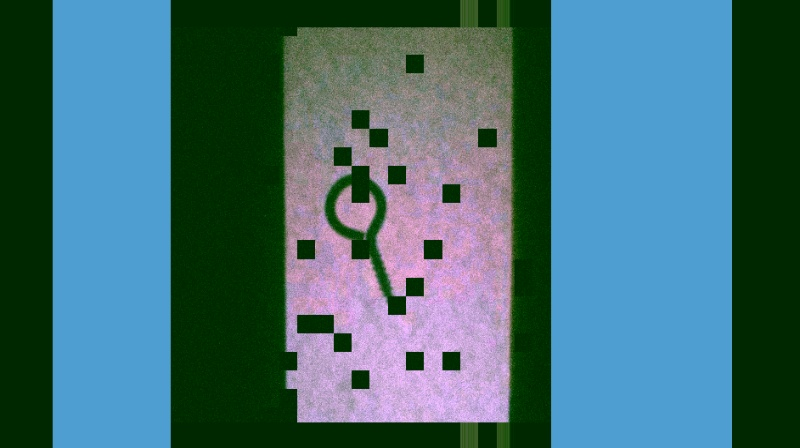O001: (321, 170, 397, 307)
